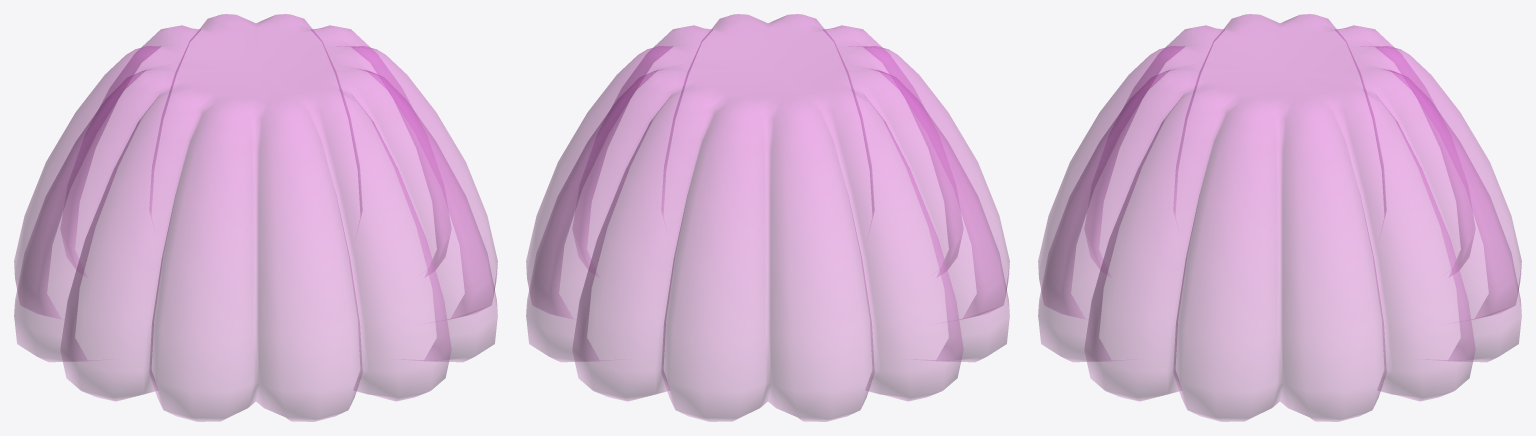
File: Jelly_06.glb
3 renders of one model, left to right at view 1: azimuth 30°, elevation 25°; view 2: azimuth 150°, elevation 25°; view 3: azimuth 270°, elevation 25°, orthographic.
Parts seen in each view (by area): view 1: Jelly_06; view 2: Jelly_06; view 3: Jelly_06.
Boxes of the visible parts, <box> form: Jelly_06: <box>14,14,497,421</box>; Jelly_06: <box>526,14,1009,421</box>; Jelly_06: <box>1038,14,1521,421</box>.
Size of the model in its own units: 16.27 by 10.09 by 16.27.
Materials: 1 (1 with a texture image).
